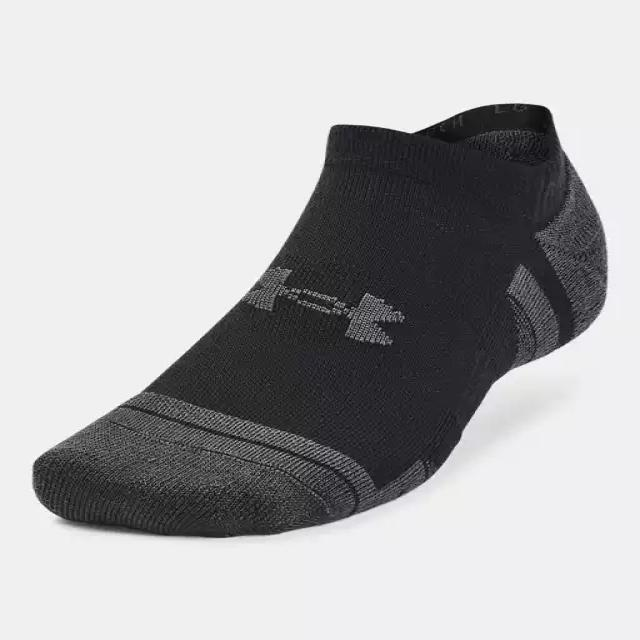sock: (31, 101, 608, 538)
